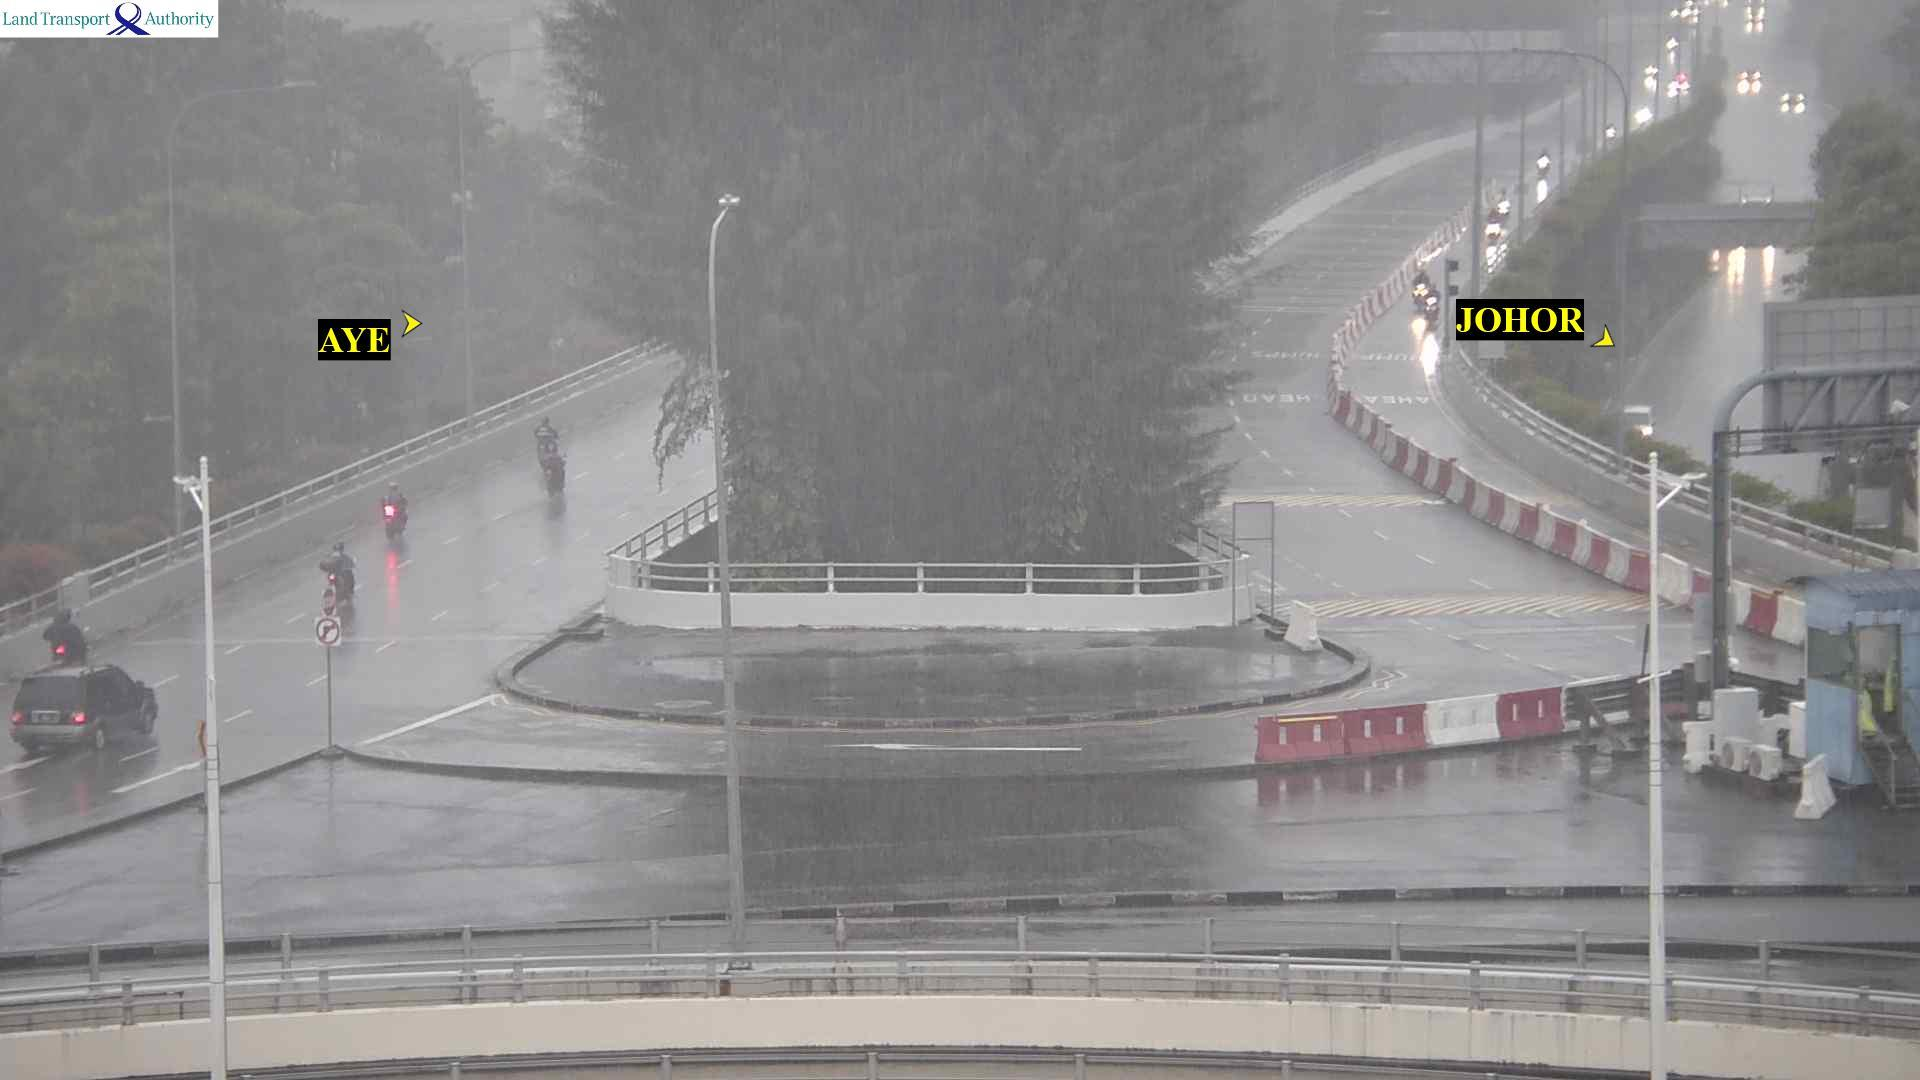vehicle-secondlink-johor: (1411, 268, 1432, 305), (1424, 286, 1440, 326), (1536, 148, 1549, 179), (1606, 119, 1615, 142)
vehicle-secondlink-singapore: (9, 667, 158, 746), (46, 603, 87, 665), (320, 542, 353, 607), (384, 488, 413, 534), (547, 419, 574, 462)
